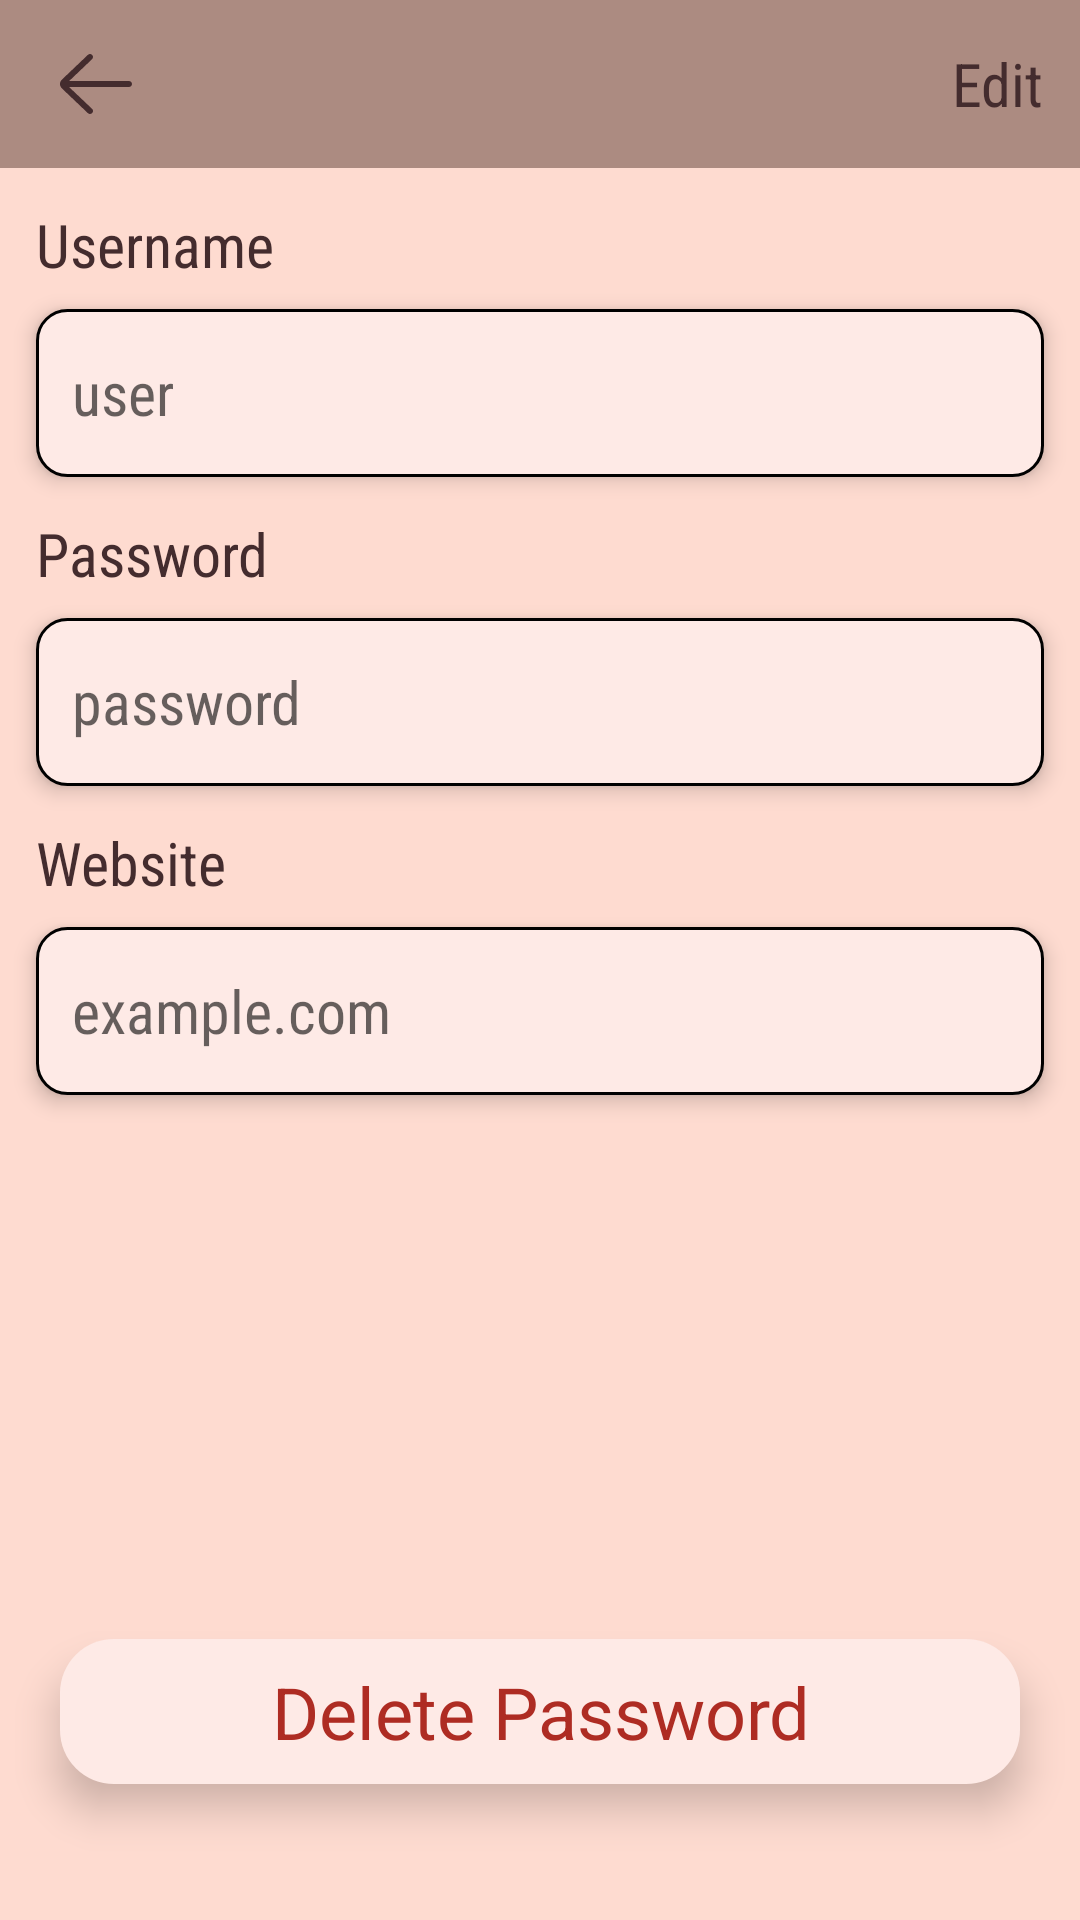

Icon bounding boxes for this 1080 x 1920 phone screenshot, format (x1, y1, x2, y2):
cursor back: (60, 54, 132, 114)
